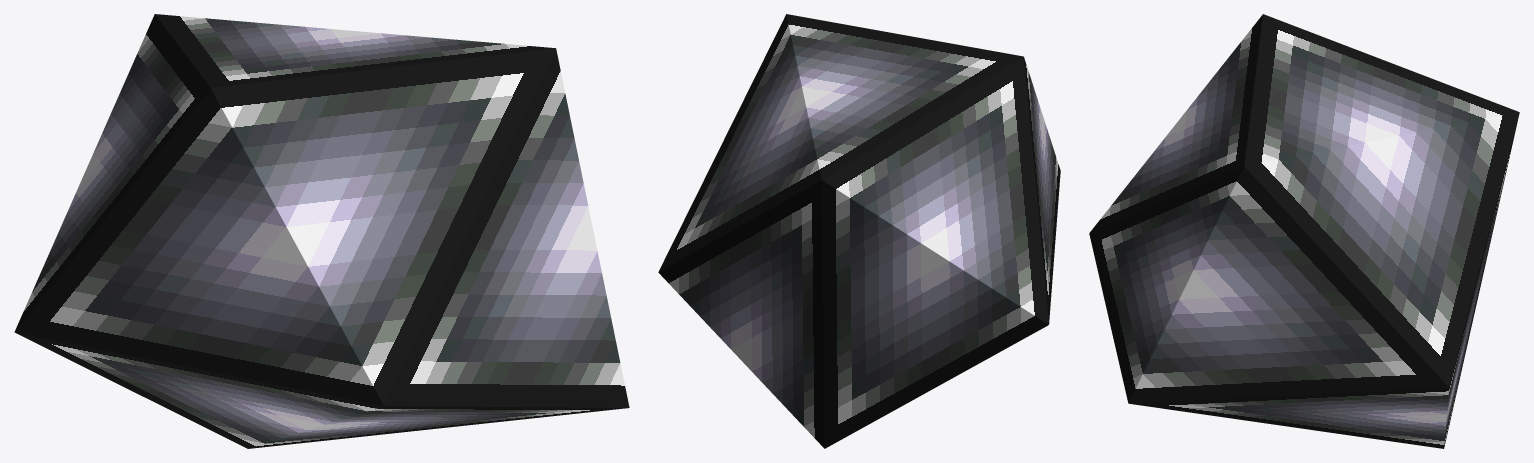
Rendered from metal_asteroid.fbx.
The picture shows the model from 3 angles, left to right: view 1: azimuth 30°, elevation 25°; view 2: azimuth 150°, elevation 25°; view 3: azimuth 270°, elevation 25°; orthographic projection. The views are drawn at different scales.
Parts seen in each view (by area): view 1: metal_asteroid; view 2: metal_asteroid; view 3: metal_asteroid.
Boxes of the visible parts, x1,y1,x2,y2 form: metal_asteroid: (14, 14, 629, 448); metal_asteroid: (658, 14, 1060, 448); metal_asteroid: (1089, 14, 1519, 448).
Size of the model in its own units: 10603 by 9985 by 10344.
1 material, 1 textured.
